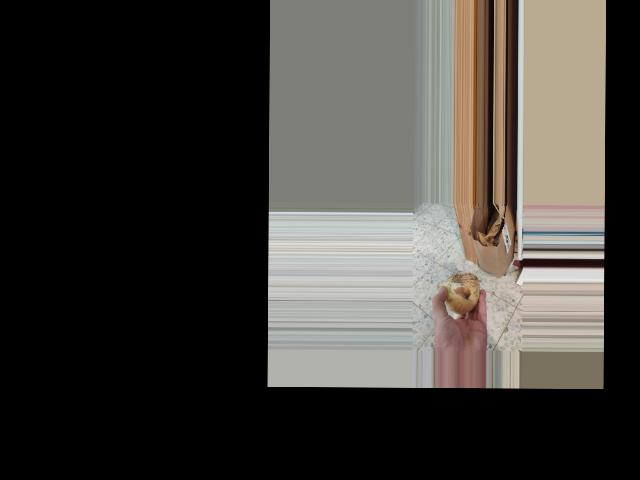onion: (435, 272, 480, 316)
